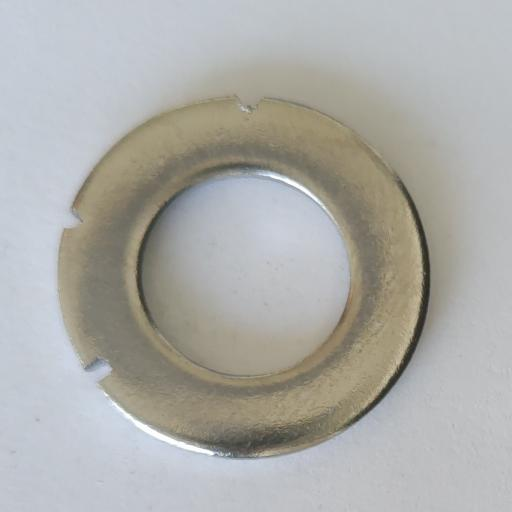burr: (82, 353, 114, 385), (234, 92, 266, 115), (61, 209, 86, 229)
